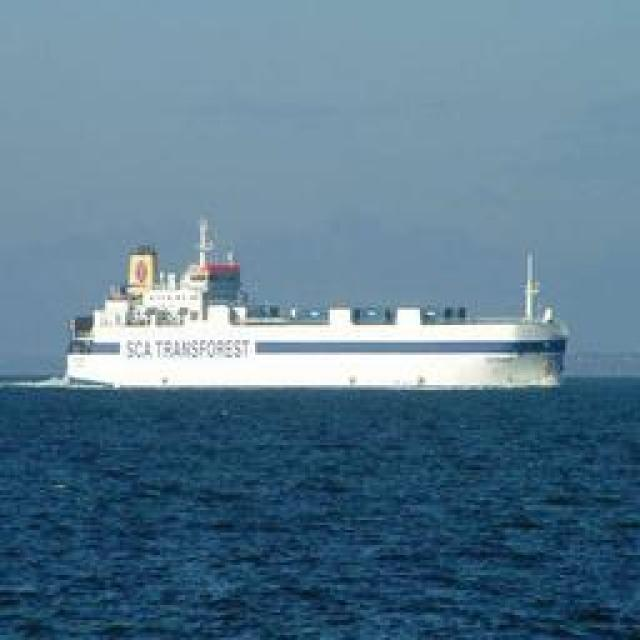CIV_Ship: (64, 228, 572, 396)
